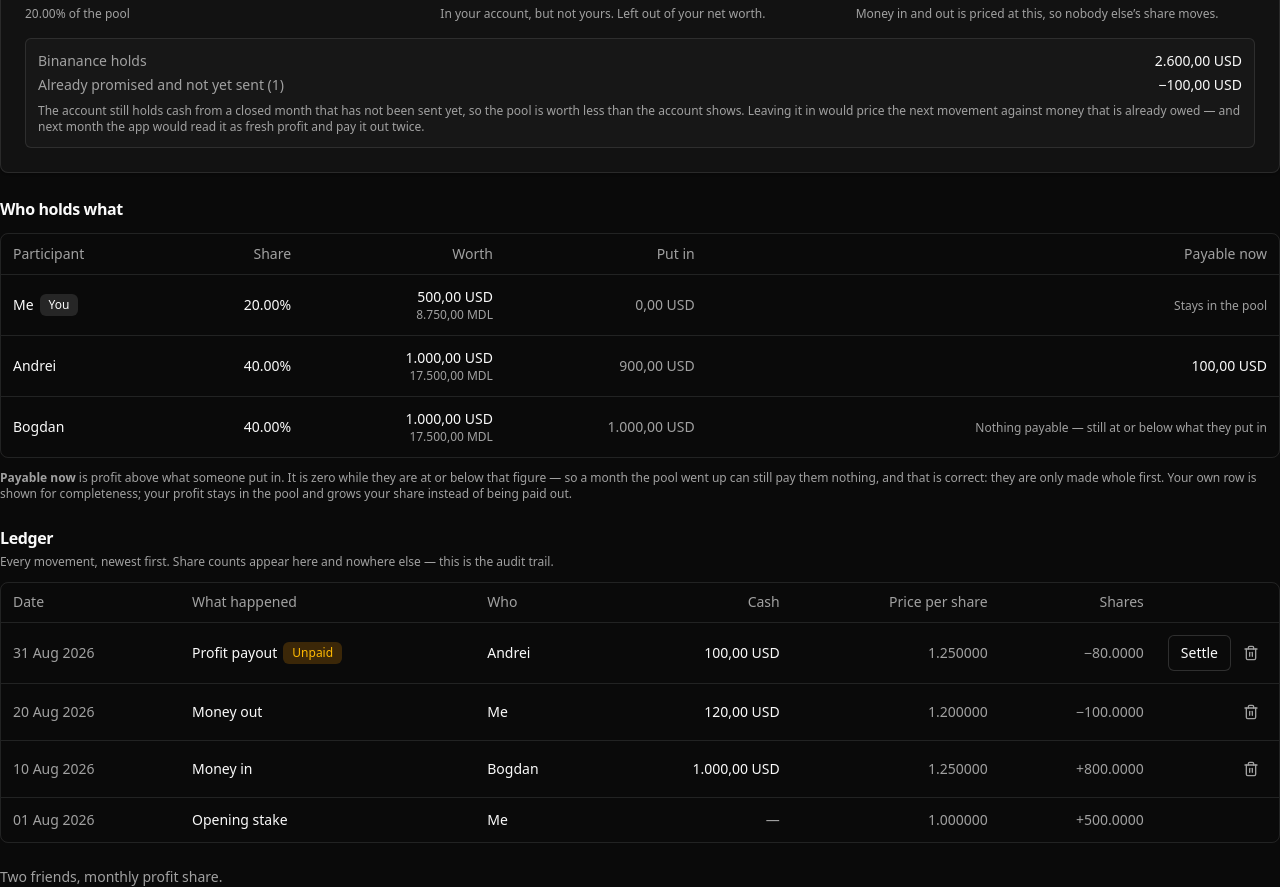
Test: PoolDetailView — ledger › refuses a settlement dated before the month was closed
(page scrolled)
Click the button with test id "pool-event-settle": (1199, 653) [1168, 635, 1231, 671]
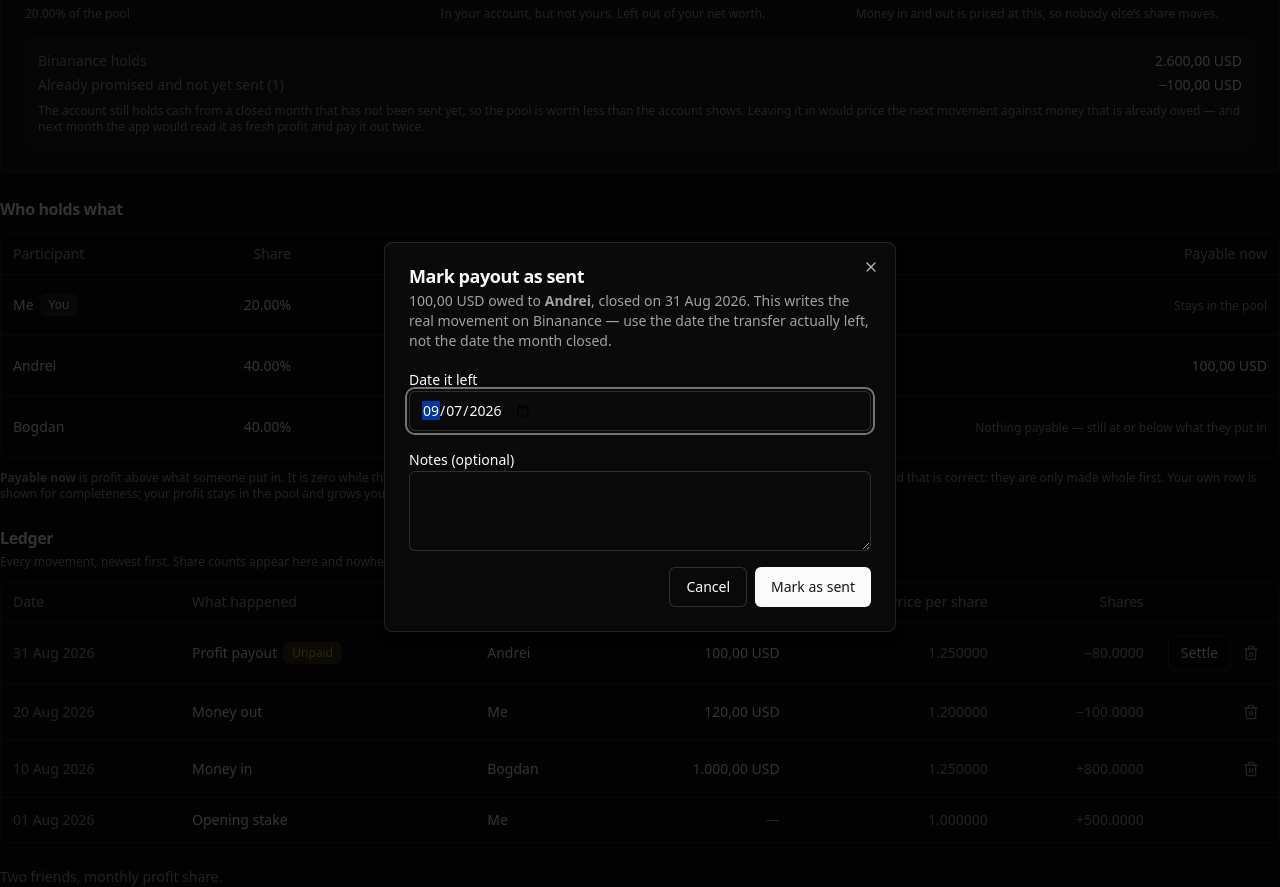
In the date field with test id "settle-date-input": (640, 411) [409, 391, 871, 431], type "2026-08-01"
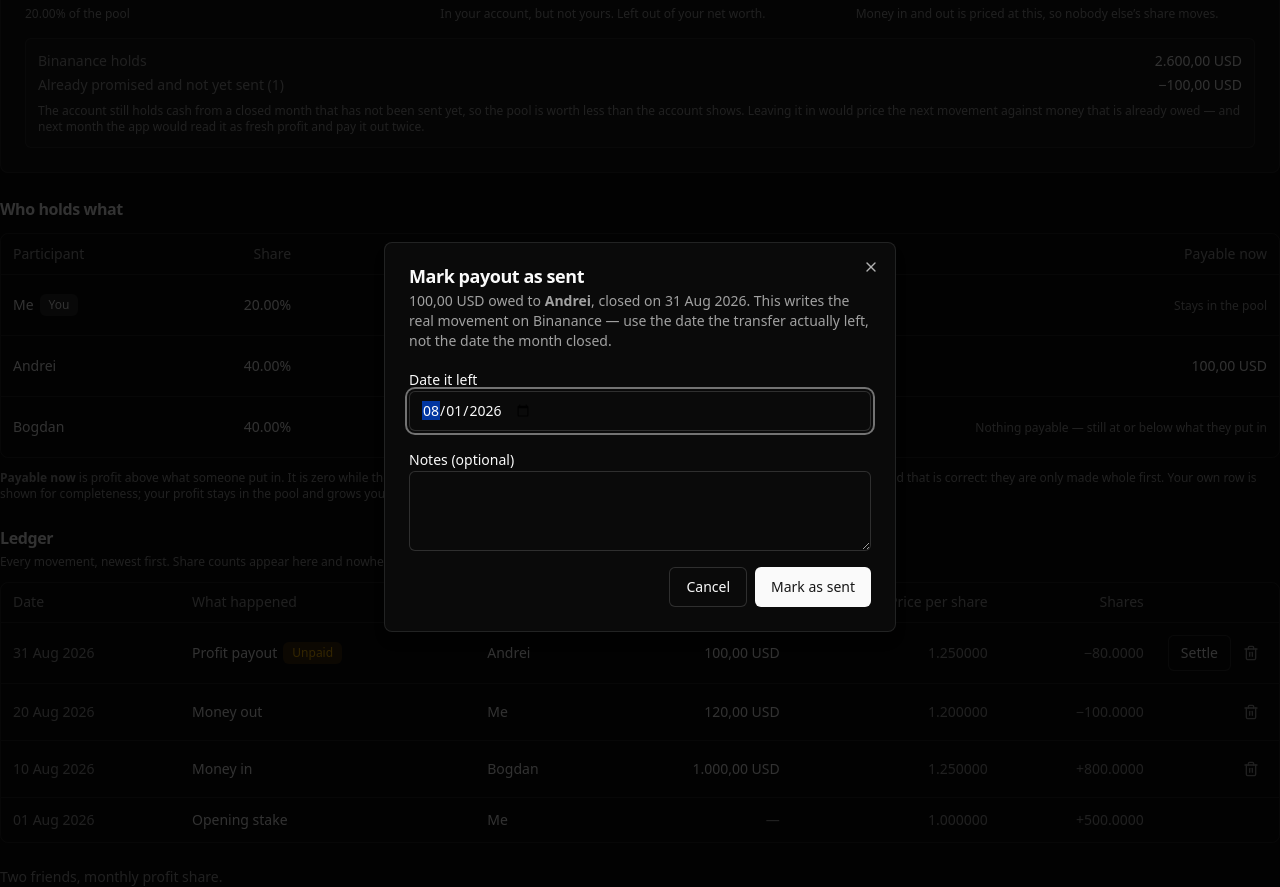
Click the button with test id "settle-submit-button": (813, 587) [755, 567, 871, 607]
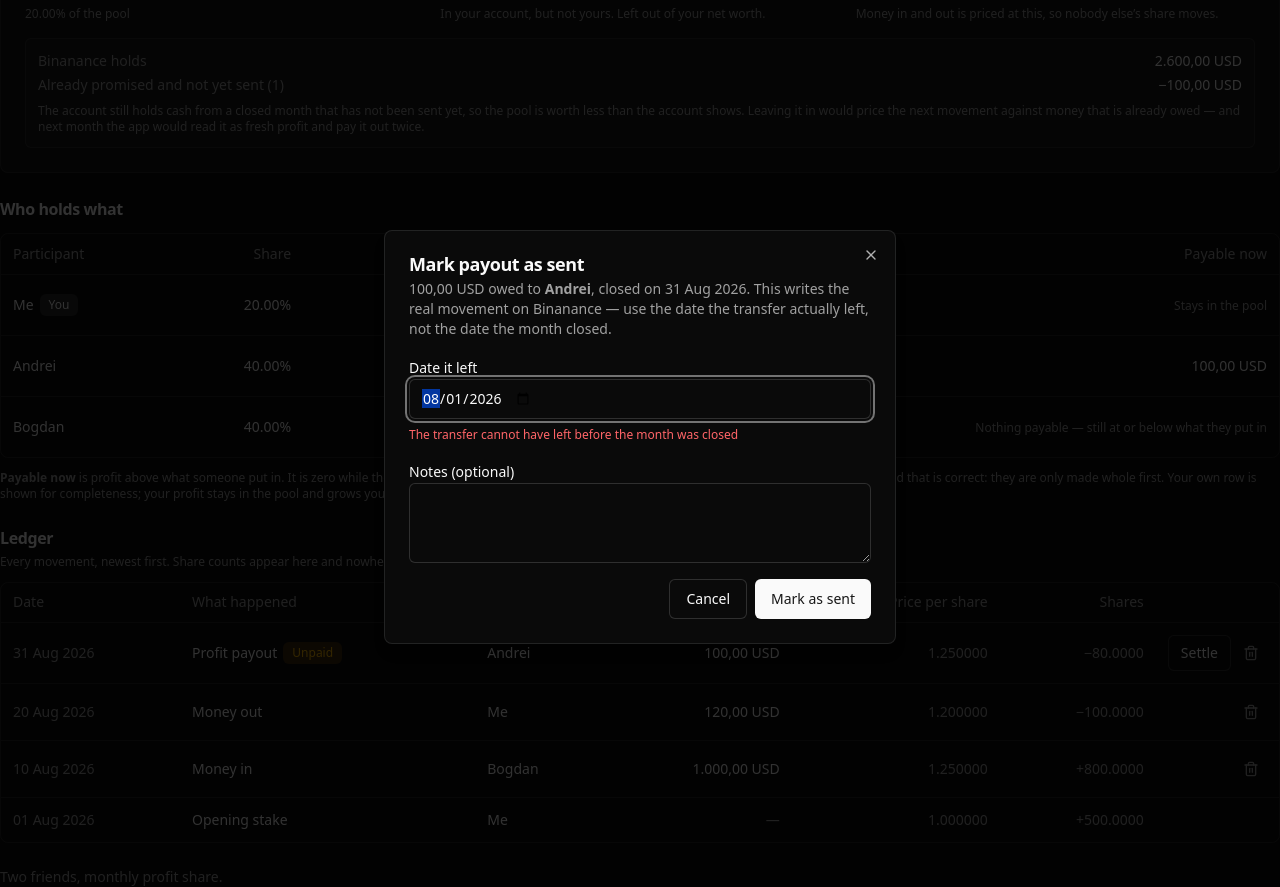
Check: the message with test id "settle-date-error" reads "The transfer cannot have left before the month was closed", box [409, 426, 738, 443]
